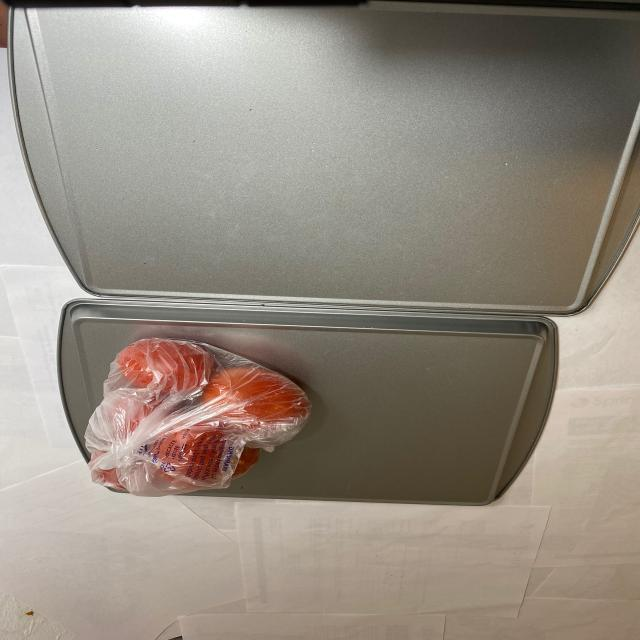tomato: (87, 338, 318, 494)
